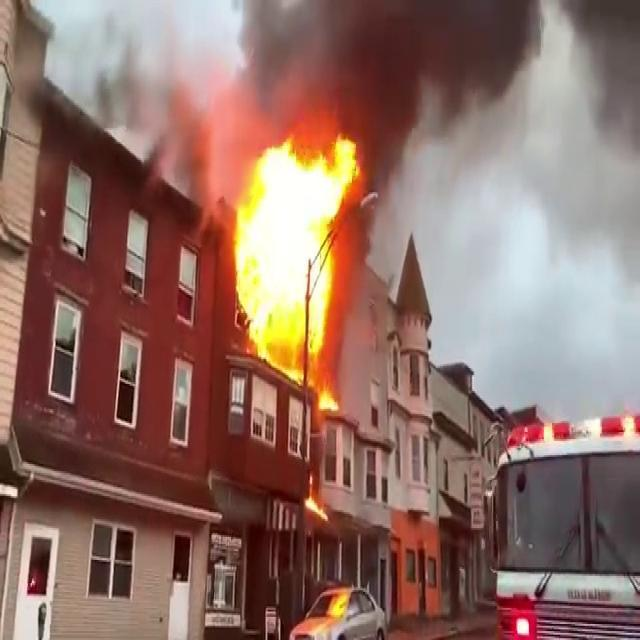Fire: (225, 120, 362, 388)
Smoke: (195, 0, 582, 174)
